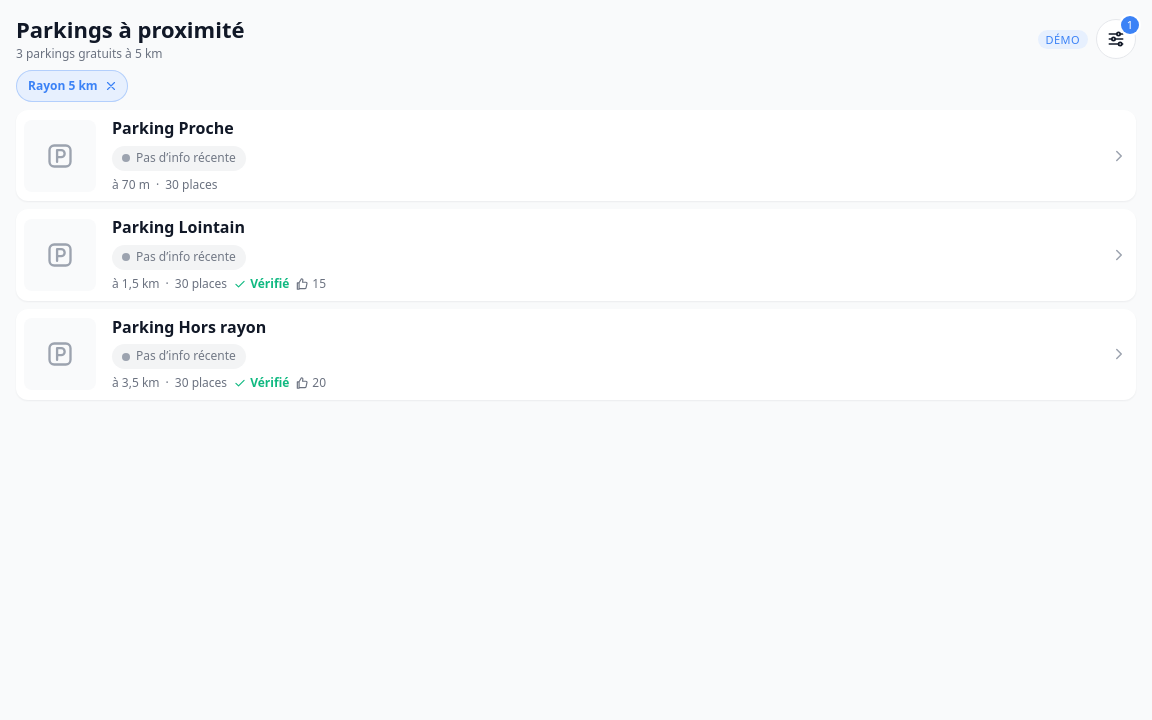
Scenario: ListPage › « Réinitialiser » remet le brouillon aux valeurs par défaut sans appliquer
Expected: the text "3 parkings gratuits à 5 km" is shown, [16, 44, 163, 62]
Click the button named "Filtres, 1 actif" at (1116, 39), box [1096, 19, 1136, 59]
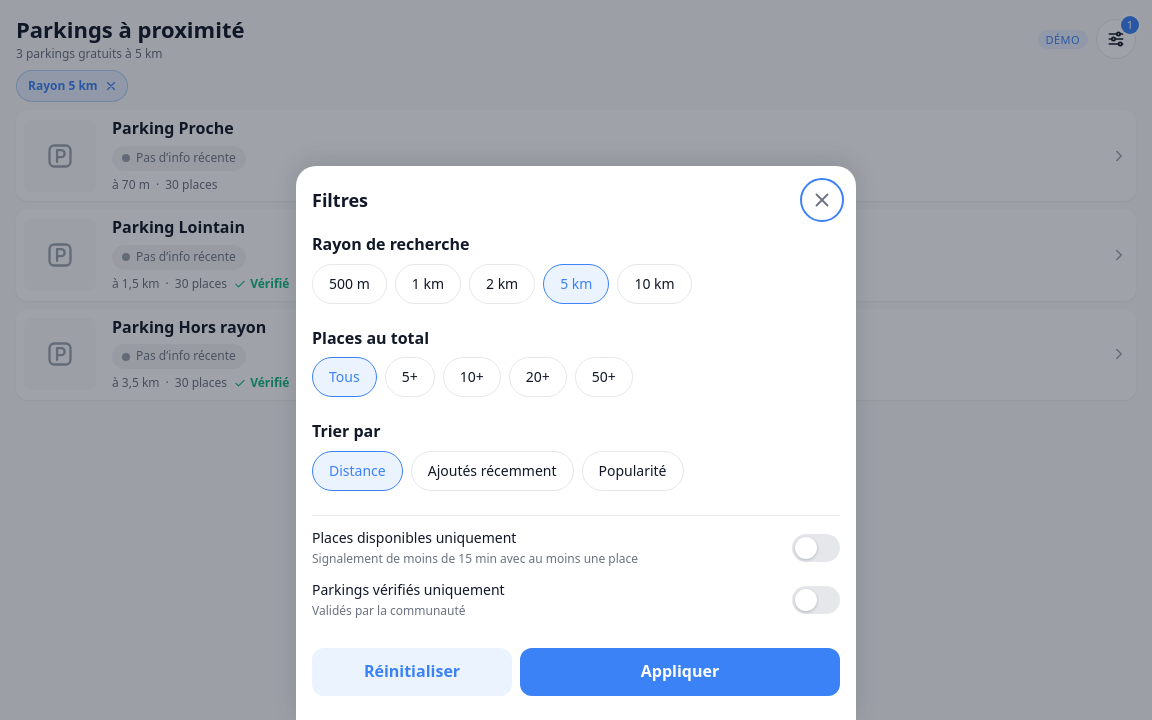
Result: the radio button labelled "5 km" is checked at [543, 264, 609, 304]
Click the button "Réinitialiser" at (412, 672), box [312, 648, 512, 696]
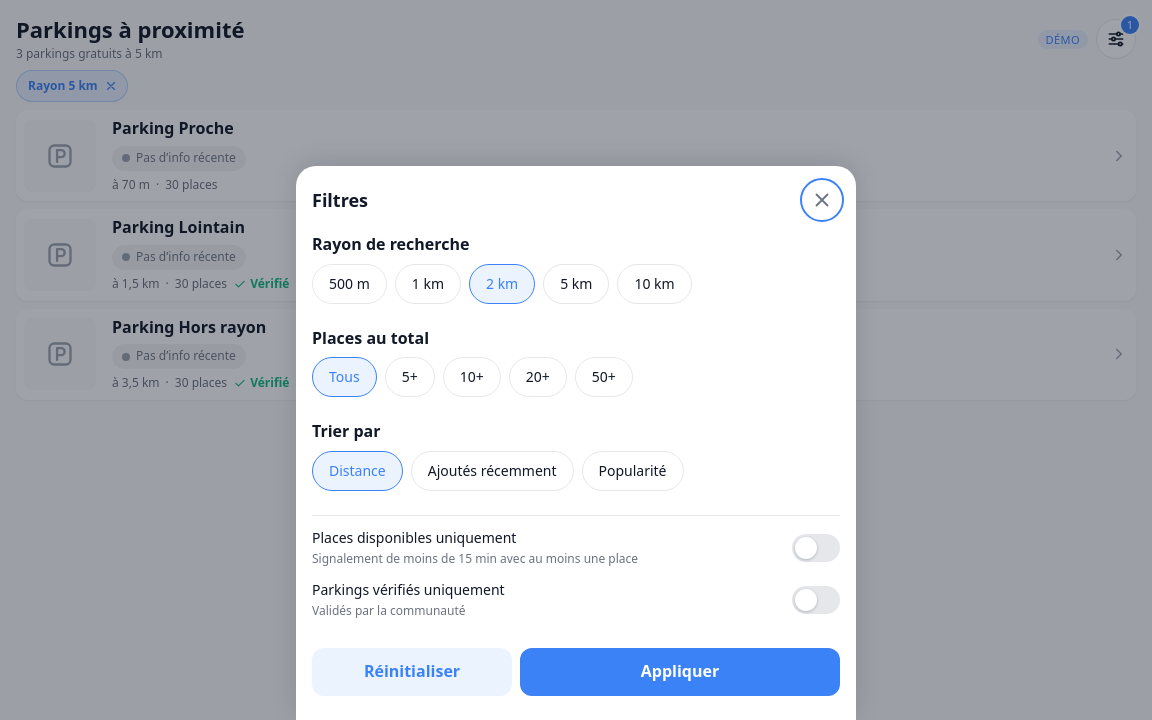
Expected: the text "3 parkings gratuits à 5 km" is shown, [16, 44, 163, 62]
Result: the radio button labelled "2 km" is checked at [469, 264, 535, 304]
